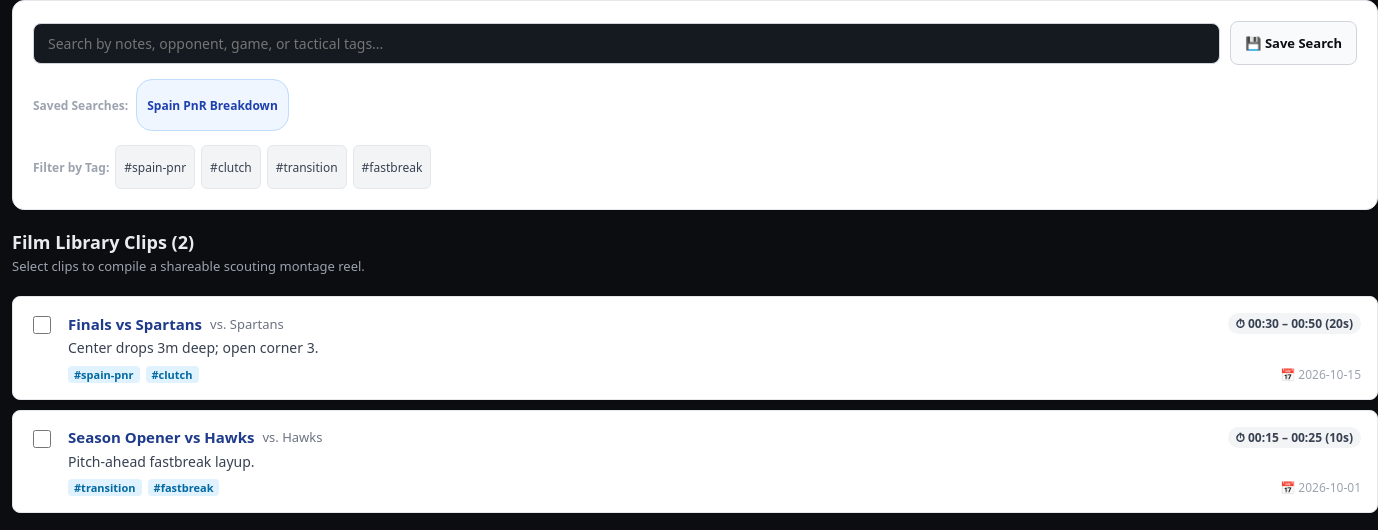
Test: FilmSearch (WP-3.3) › filters clips by clicking on a tag chip
The image size is (1378, 530).
Step 1. Click the button "#transition" → x=307, y=167, box [267,145,347,189]
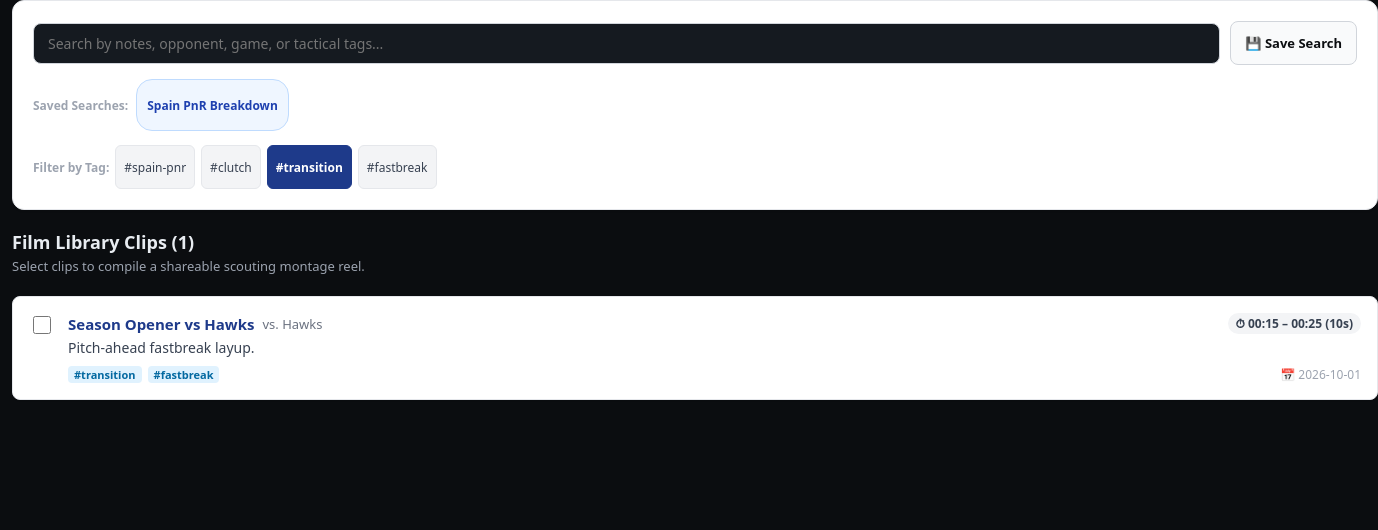
Expected: the link "Season Opener vs Hawks" is shown, [68,314,254,334]
Expected: the link "Finals vs Spartans" is gone
